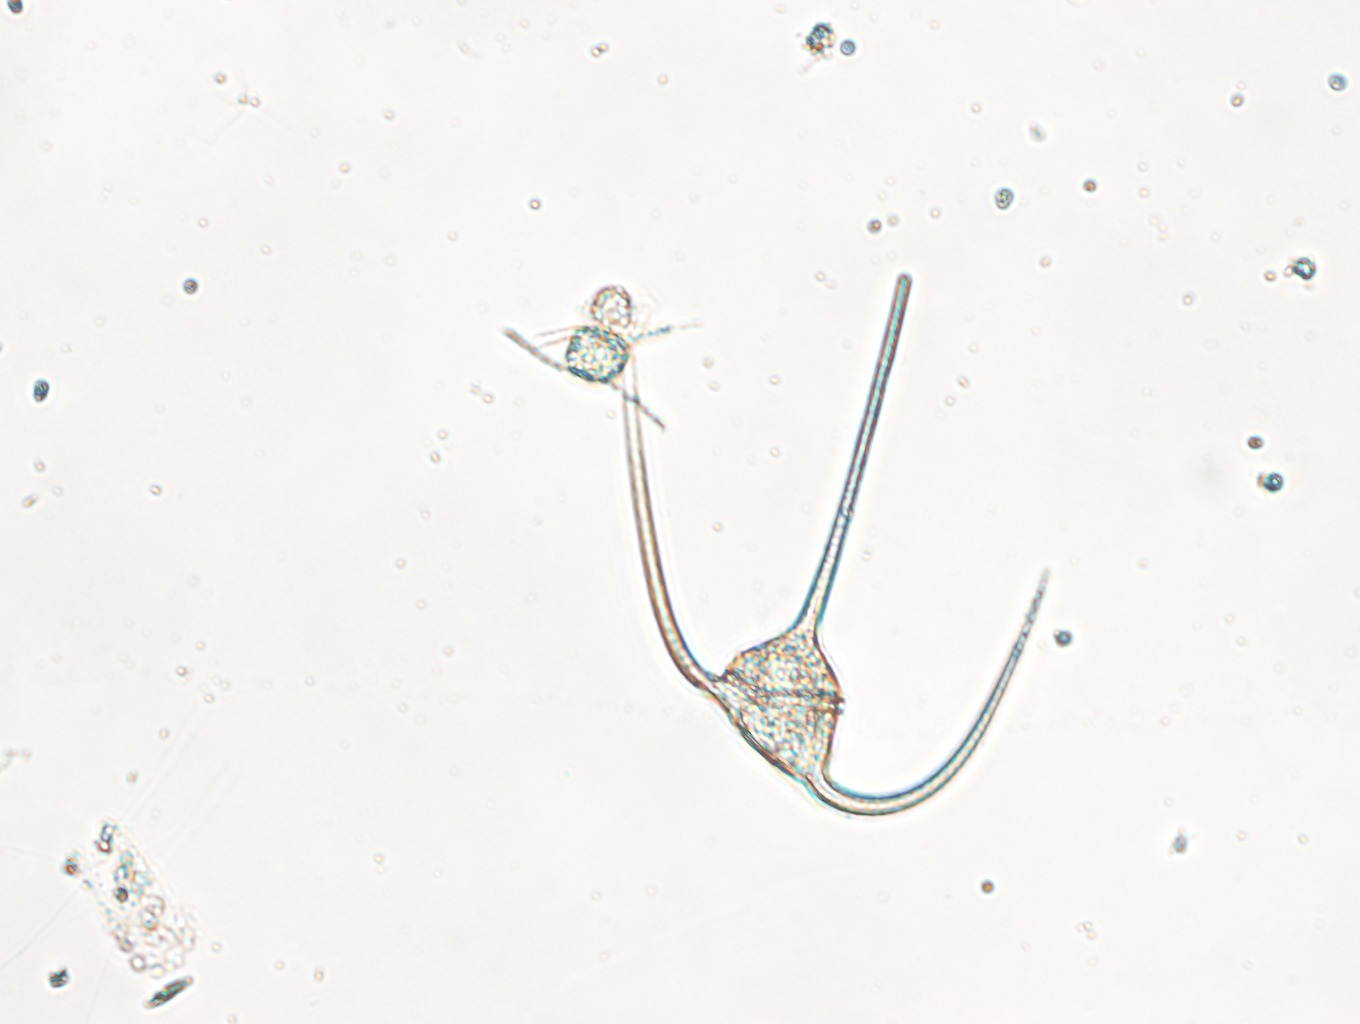ceratium trichoceros: (624, 274, 1053, 814)
chaetoceros: (500, 285, 703, 432)
